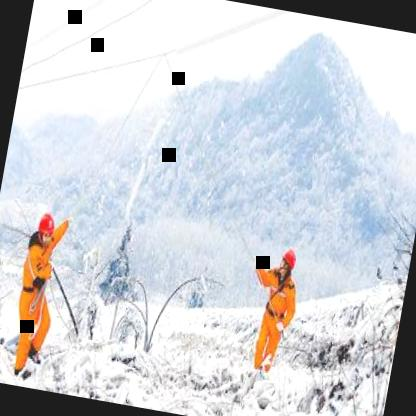helmet: (33, 212, 57, 245), (278, 243, 298, 278)
